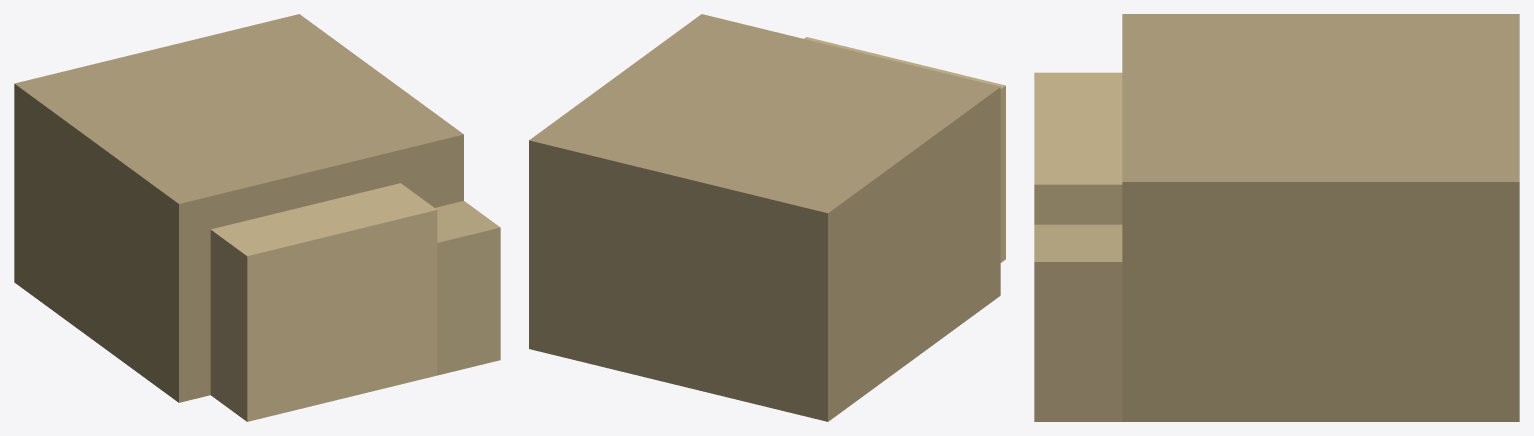
File: arenisca_01.glb
3 renders of one model, left to right at view 1: azimuth 30°, elevation 25°; view 2: azimuth 150°, elevation 25°; view 3: azimuth 270°, elevation 25°, orthographic. The views are drawn at different scales.
Visible parts, largest first — view 1: arenisca_01; view 2: arenisca_01; view 3: arenisca_01.
Boxes of the visible parts, x1=… form: arenisca_01: x1=14, y1=14, x2=500, y2=421; arenisca_01: x1=529, y1=14, x2=1005, y2=421; arenisca_01: x1=1034, y1=14, x2=1519, y2=421.
Size of the model in its own units: 0.9 by 0.6 by 1.1.
